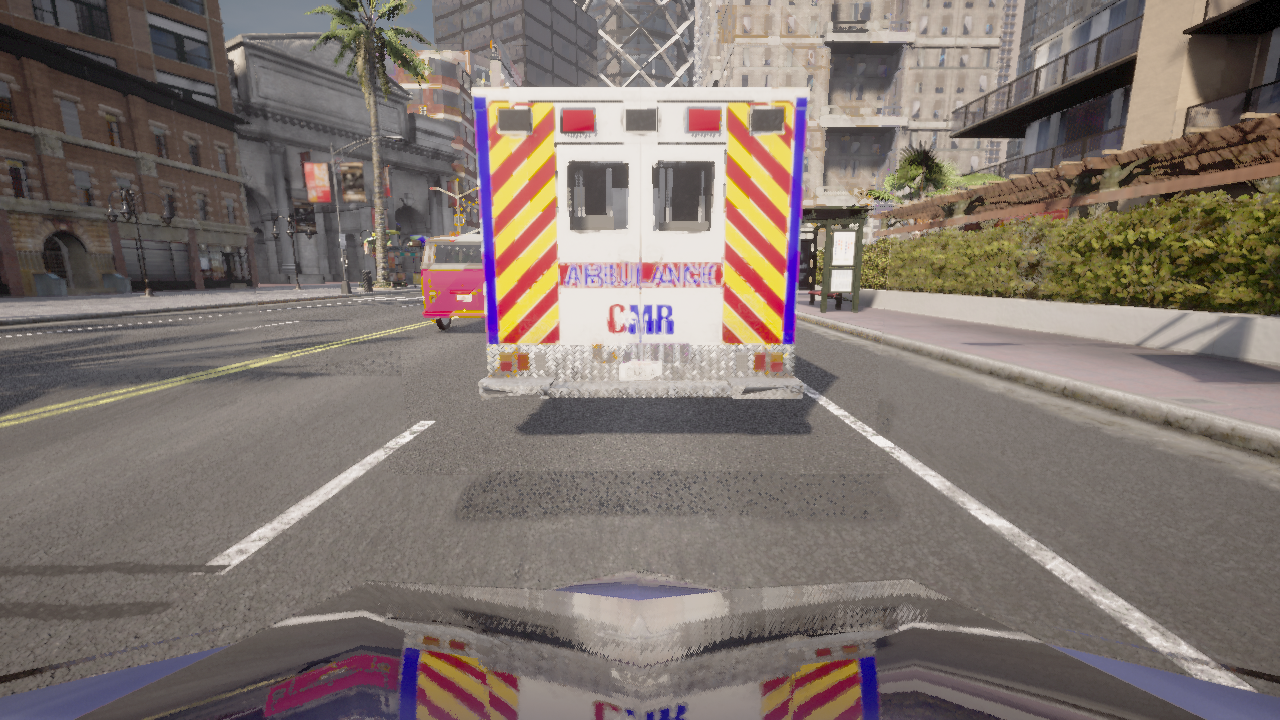cyclist: (0, 569, 1279, 719), (472, 88, 808, 399), (421, 235, 485, 330)
